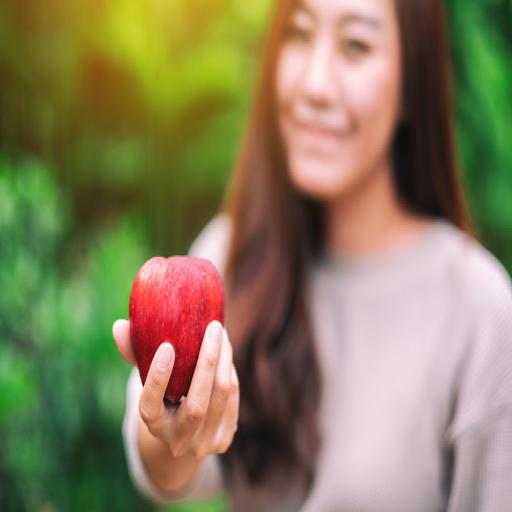apple: (129, 257, 224, 403)
